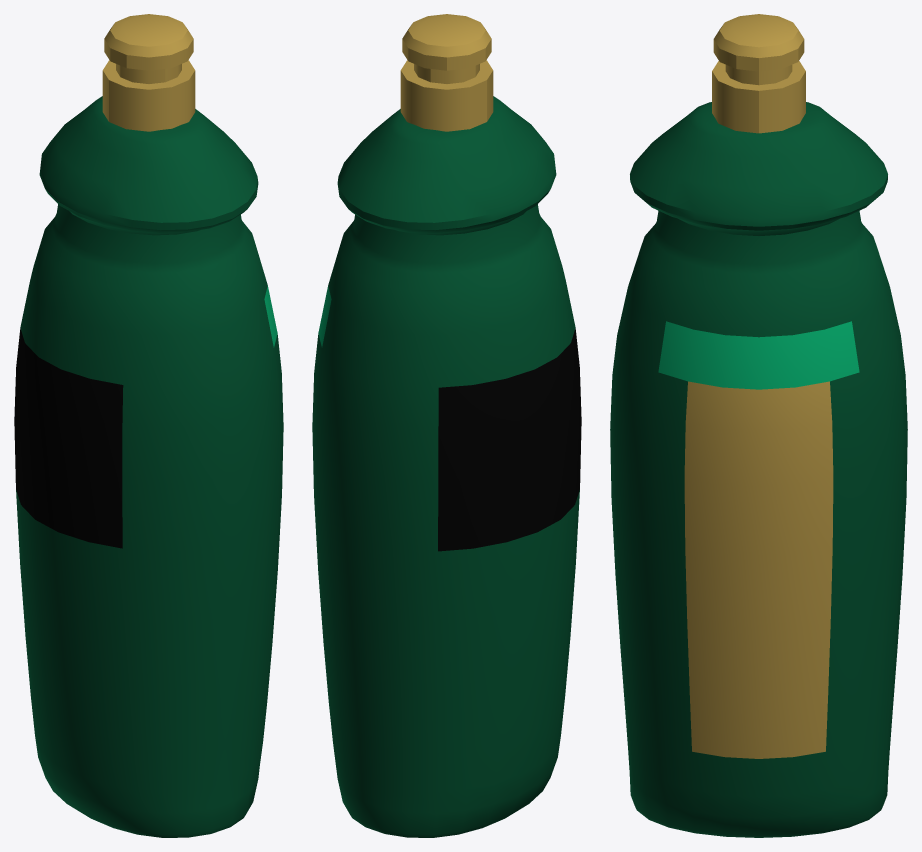
File: Bottles_07.glb
3 views of the same model, side by side, from view 1: azimuth 30°, elevation 25°; view 2: azimuth 150°, elevation 25°; view 3: azimuth 270°, elevation 25° (orthographic).
Visible parts, largest first — view 1: Mesh_Bottles_07; view 2: Mesh_Bottles_07; view 3: Mesh_Bottles_07.
Part boxes in pixels (box(x1,y1,x2,y2)): Mesh_Bottles_07: box(14, 14, 283, 837); Mesh_Bottles_07: box(312, 14, 581, 837); Mesh_Bottles_07: box(610, 14, 907, 837).
Bounding box in the file's own units: 0.068 × 0.2143 × 0.0748.
1 material, 1 textured.
